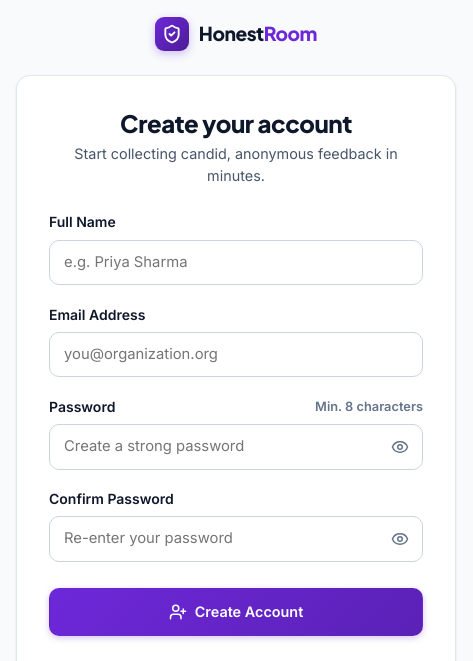
Test case: HonestRoom Frontend Test Suite › validates registration fields including email format and password match
In the field labelled "Full Name": point(236, 262) [49,240,423,285], type "Al"
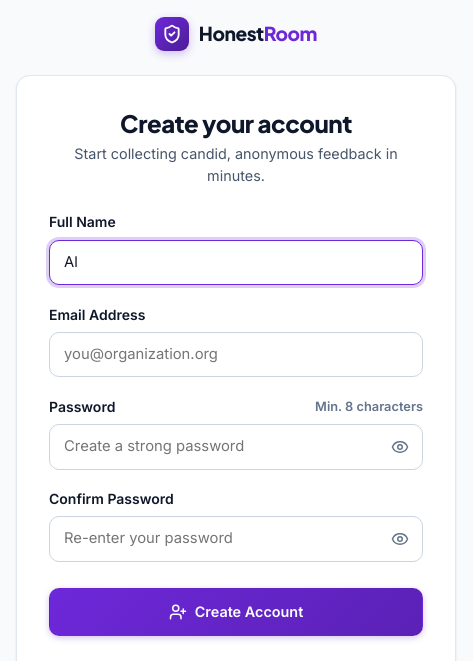
In the field labelled "Email Address": point(236, 355) [49,332,423,377], type "invalid-email"
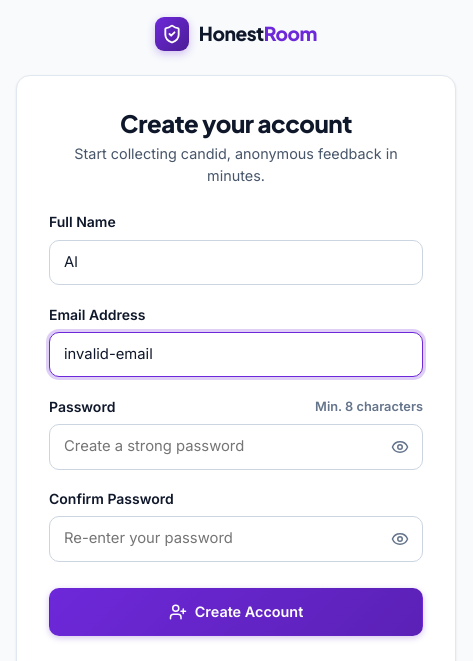
In the password field labelled "Password Min. 8 characters": point(236, 447) [49,424,423,470], type "short"
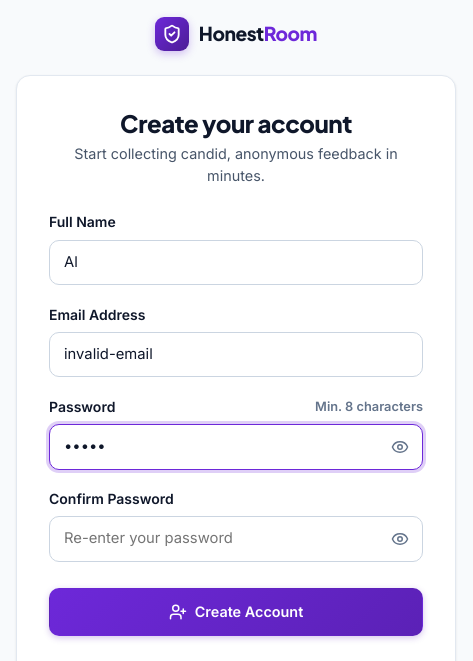
In the password field labelled "Confirm Password": point(236, 539) [49,516,423,562], type "different"
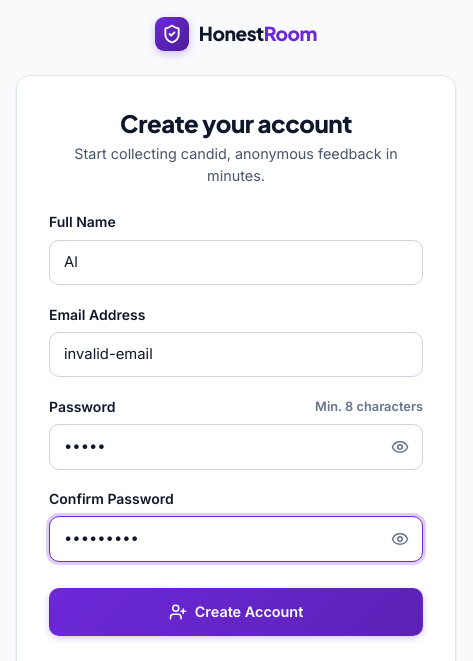
Click the button "Create Account": point(236, 612) [49,588,423,636]
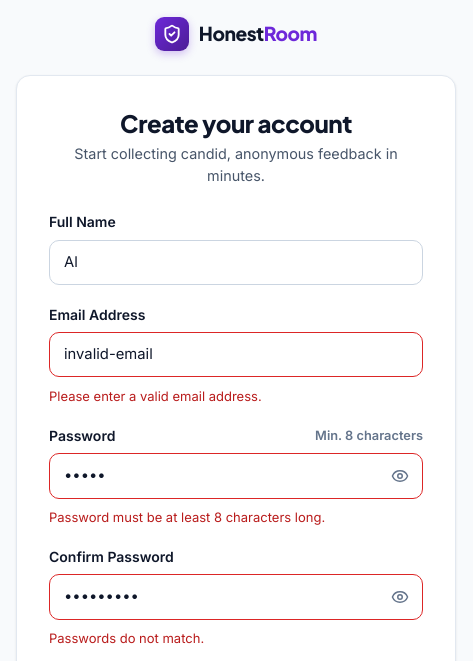
Expected: the text "Please enter a valid email address." is shown, [49,388,262,404]
Expected: the text "Password must be at least 8 characters long." is shown, [49,509,325,525]
Expected: the text "Passwords do not match." is shown, [49,630,204,646]
